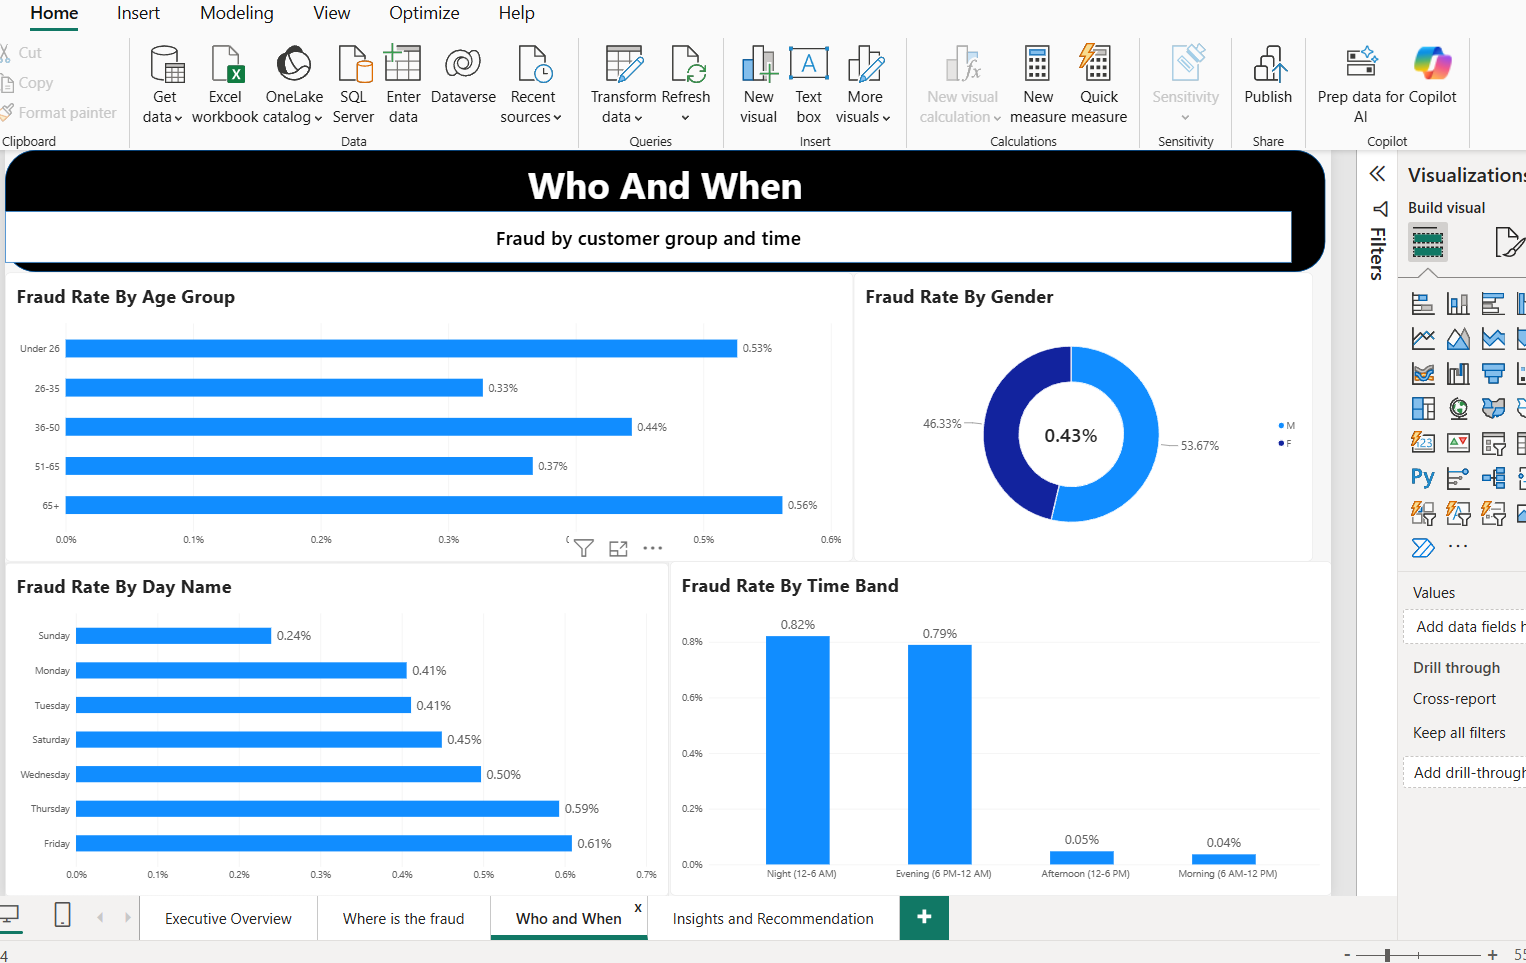

What the dashboard file says about the page in this screenshot:
{"tool":"powerbi","page":{"name":"Who and When","canvas":[1920,1080],"ordinal":2},"visuals":[{"type":"clusteredBarChart","title":"Fraud Rate By Age Group","fields":{"Category":["cc_data.Age Group"],"Y":["cc_data.Fraud Rate %"]},"box":[0,176.7,1227.9,418.6],"z":0},{"type":"donutChart","title":"Fraud Rate By Gender","fields":{"Category":["cc_data.gender"],"Y":["cc_data.Fraud Rate %"]},"box":[1227.9,176.7,665.1,418.6],"z":1},{"type":"columnChart","title":"Fraud Rate By Time Band","fields":{"Category":["cc_data.Time Band"],"Y":["cc_data.Fraud Rate %"]},"box":[962.8,595.3,958.1,483.7],"z":2},{"type":"clusteredBarChart","title":"Fraud Rate By Day Name","fields":{"Category":["cc_data.Day Name"],"Y":["cc_data.Fraud Rate %"]},"box":[0,597.2,960.5,483.7],"z":3},{"type":"shape","box":[0,0,1911.6,176.7],"z":4},{"type":"shape","box":[0,88.4,1862.8,74.4],"z":5}]}

Visuals, with their boxes on the page's 1920x1080 design canvas (x1, y1, x2, y2). These are canvas units, not pixel positions in the 1526x963 screenshot, which may show the page scaled, cropped or inside an application window:
"Fraud Rate By Age Group" clusteredBarChart: 0,177,1228,595
"Fraud Rate By Gender" donutChart: 1228,177,1893,595
"Fraud Rate By Time Band" columnChart: 963,595,1921,1079
"Fraud Rate By Day Name" clusteredBarChart: 0,597,960,1081
shape: 0,0,1912,177
shape: 0,88,1863,163
